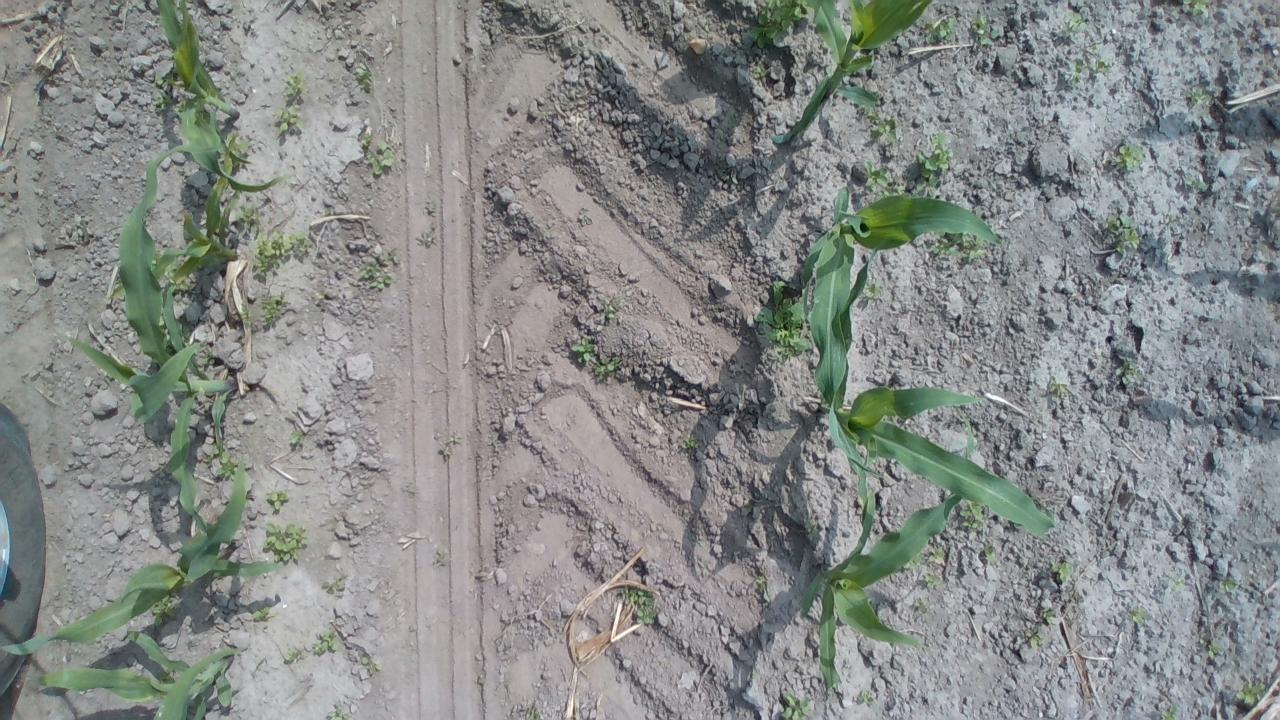Maize: (804, 246, 1071, 550), (804, 162, 1010, 476), (78, 138, 230, 550), (788, 424, 986, 714), (3, 462, 275, 664), (762, 0, 946, 163), (142, 0, 288, 203), (136, 140, 248, 334), (20, 627, 248, 720)
Weeds: (746, 276, 818, 365), (1060, 10, 1116, 84), (744, 1, 816, 50), (569, 334, 626, 383), (252, 230, 312, 276), (924, 228, 991, 266), (1098, 208, 1148, 257), (354, 244, 402, 295), (912, 132, 956, 184), (618, 579, 662, 631), (261, 521, 308, 567), (274, 72, 306, 139), (1020, 603, 1058, 654), (904, 544, 944, 592), (357, 133, 398, 179), (234, 295, 289, 328), (1108, 140, 1152, 177), (967, 10, 1002, 55), (146, 590, 181, 634), (437, 425, 472, 469), (206, 444, 244, 483), (922, 10, 959, 50), (1229, 677, 1270, 713), (867, 106, 900, 148), (857, 158, 894, 194), (774, 690, 817, 720), (1114, 352, 1146, 392), (348, 647, 383, 680), (958, 497, 988, 534), (1180, 79, 1212, 113), (1044, 556, 1076, 590), (346, 58, 374, 93), (163, 259, 190, 293), (1043, 375, 1077, 402), (318, 572, 348, 602), (396, 478, 429, 505), (262, 485, 292, 514), (310, 627, 338, 658), (512, 699, 548, 720), (242, 602, 276, 622), (1123, 605, 1150, 630), (676, 432, 701, 459), (282, 423, 306, 451), (598, 296, 622, 324), (712, 164, 742, 186), (232, 204, 263, 225), (322, 702, 358, 720), (852, 686, 879, 710), (977, 544, 1000, 572), (1180, 173, 1210, 194), (1200, 637, 1228, 659), (279, 646, 308, 666), (1166, 570, 1188, 596), (1212, 575, 1238, 597), (429, 545, 449, 573), (414, 227, 436, 252), (1159, 699, 1184, 720), (1176, 0, 1221, 10), (804, 524, 826, 544), (753, 572, 771, 596)
